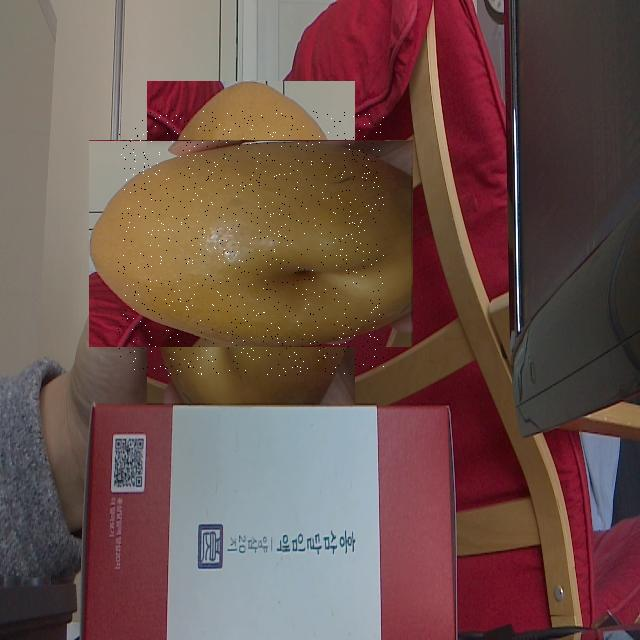pear: (118, 110, 384, 376)
